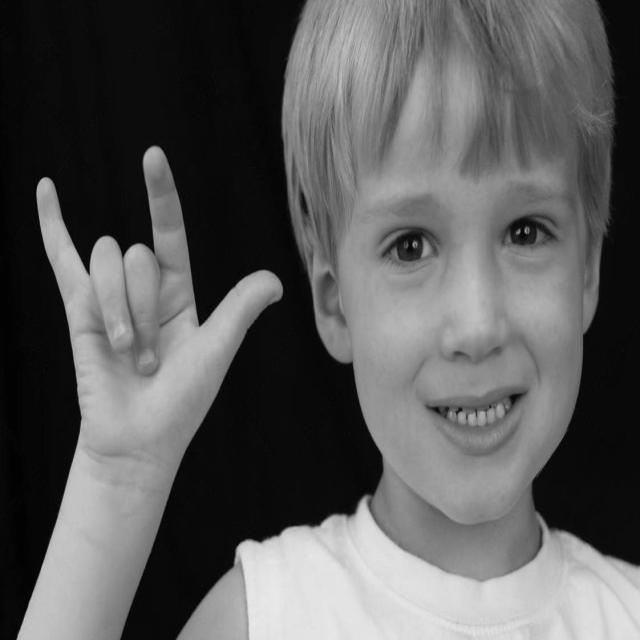i love you: (32, 138, 286, 483)
